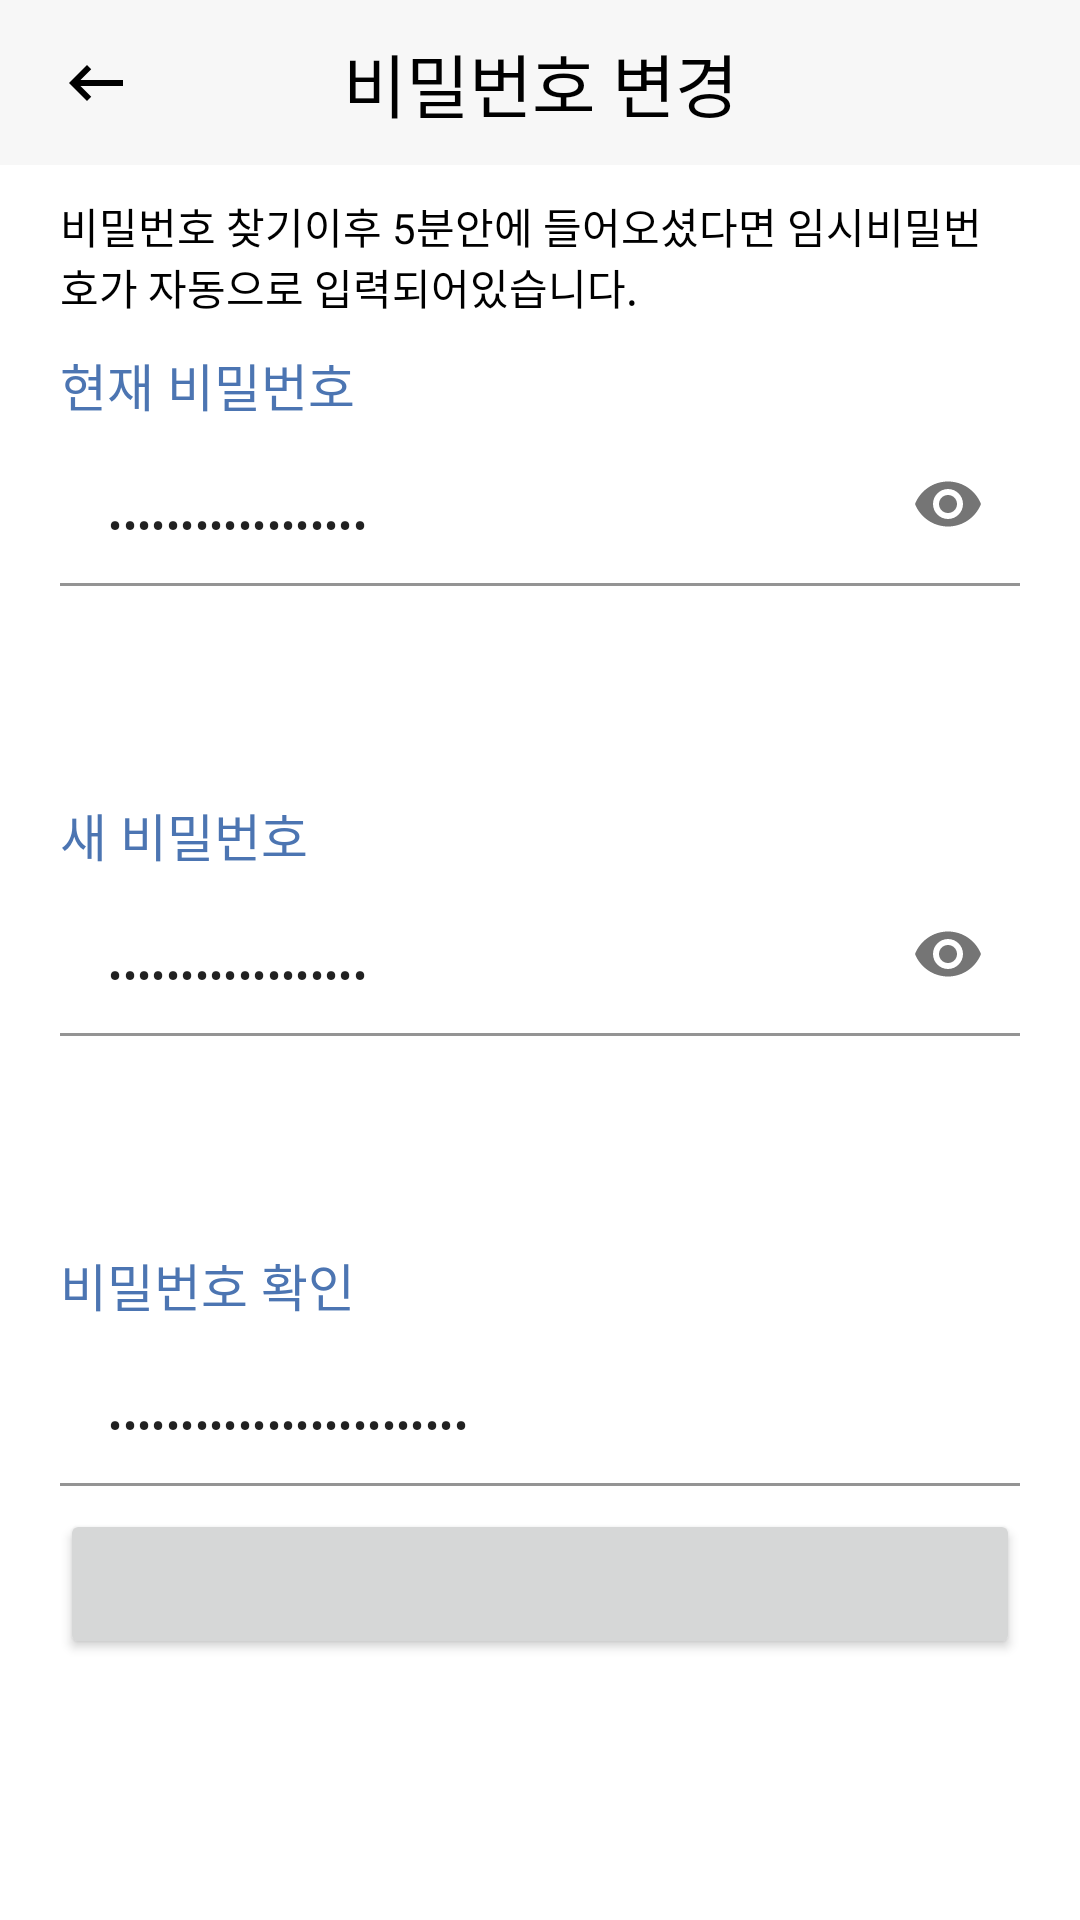

Locate icon controls on the screen. Image size 1080 x 1920, boxes as bbox=(x1, y1, x2, y2).
keyboard backspace: bbox=(69, 65, 123, 101)
